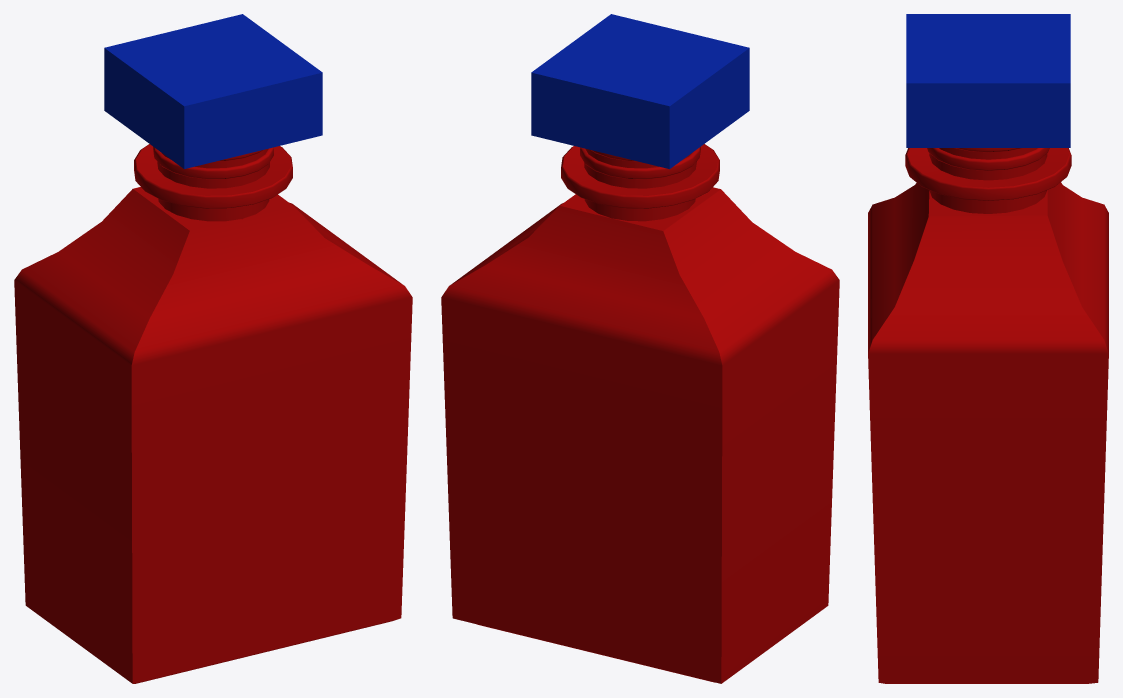
Rendered from Whiskey_Bottle.fbx.
3 views of the same model, side by side, from view 1: azimuth 30°, elevation 25°; view 2: azimuth 150°, elevation 25°; view 3: azimuth 270°, elevation 25° (orthographic). The views are drawn at different scales.
Parts seen in each view (by area): view 1: bottle_bottom_lp, bottle_top_lp, bottle_mid_lp; view 2: bottle_bottom_lp, bottle_top_lp, bottle_mid_lp; view 3: bottle_bottom_lp, bottle_top_lp, bottle_mid_lp.
Part boxes in pixels (bbox=[...]): bottle_bottom_lp: bbox=[14, 187, 412, 683]; bottle_top_lp: bbox=[104, 14, 322, 169]; bottle_mid_lp: bbox=[134, 144, 292, 221]; bottle_bottom_lp: bbox=[441, 187, 839, 683]; bottle_top_lp: bbox=[531, 14, 749, 169]; bottle_mid_lp: bbox=[561, 144, 719, 221]; bottle_bottom_lp: bbox=[868, 182, 1108, 683]; bottle_top_lp: bbox=[906, 14, 1070, 147]; bottle_mid_lp: bbox=[905, 148, 1071, 213].
Size of the model in its own units: 12.76 by 24.44 by 9.22.
